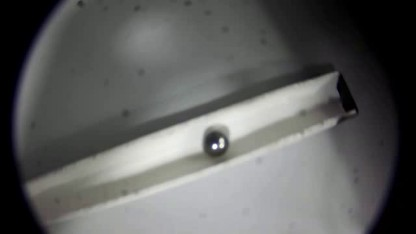gangzhu: (202, 129, 230, 156)
